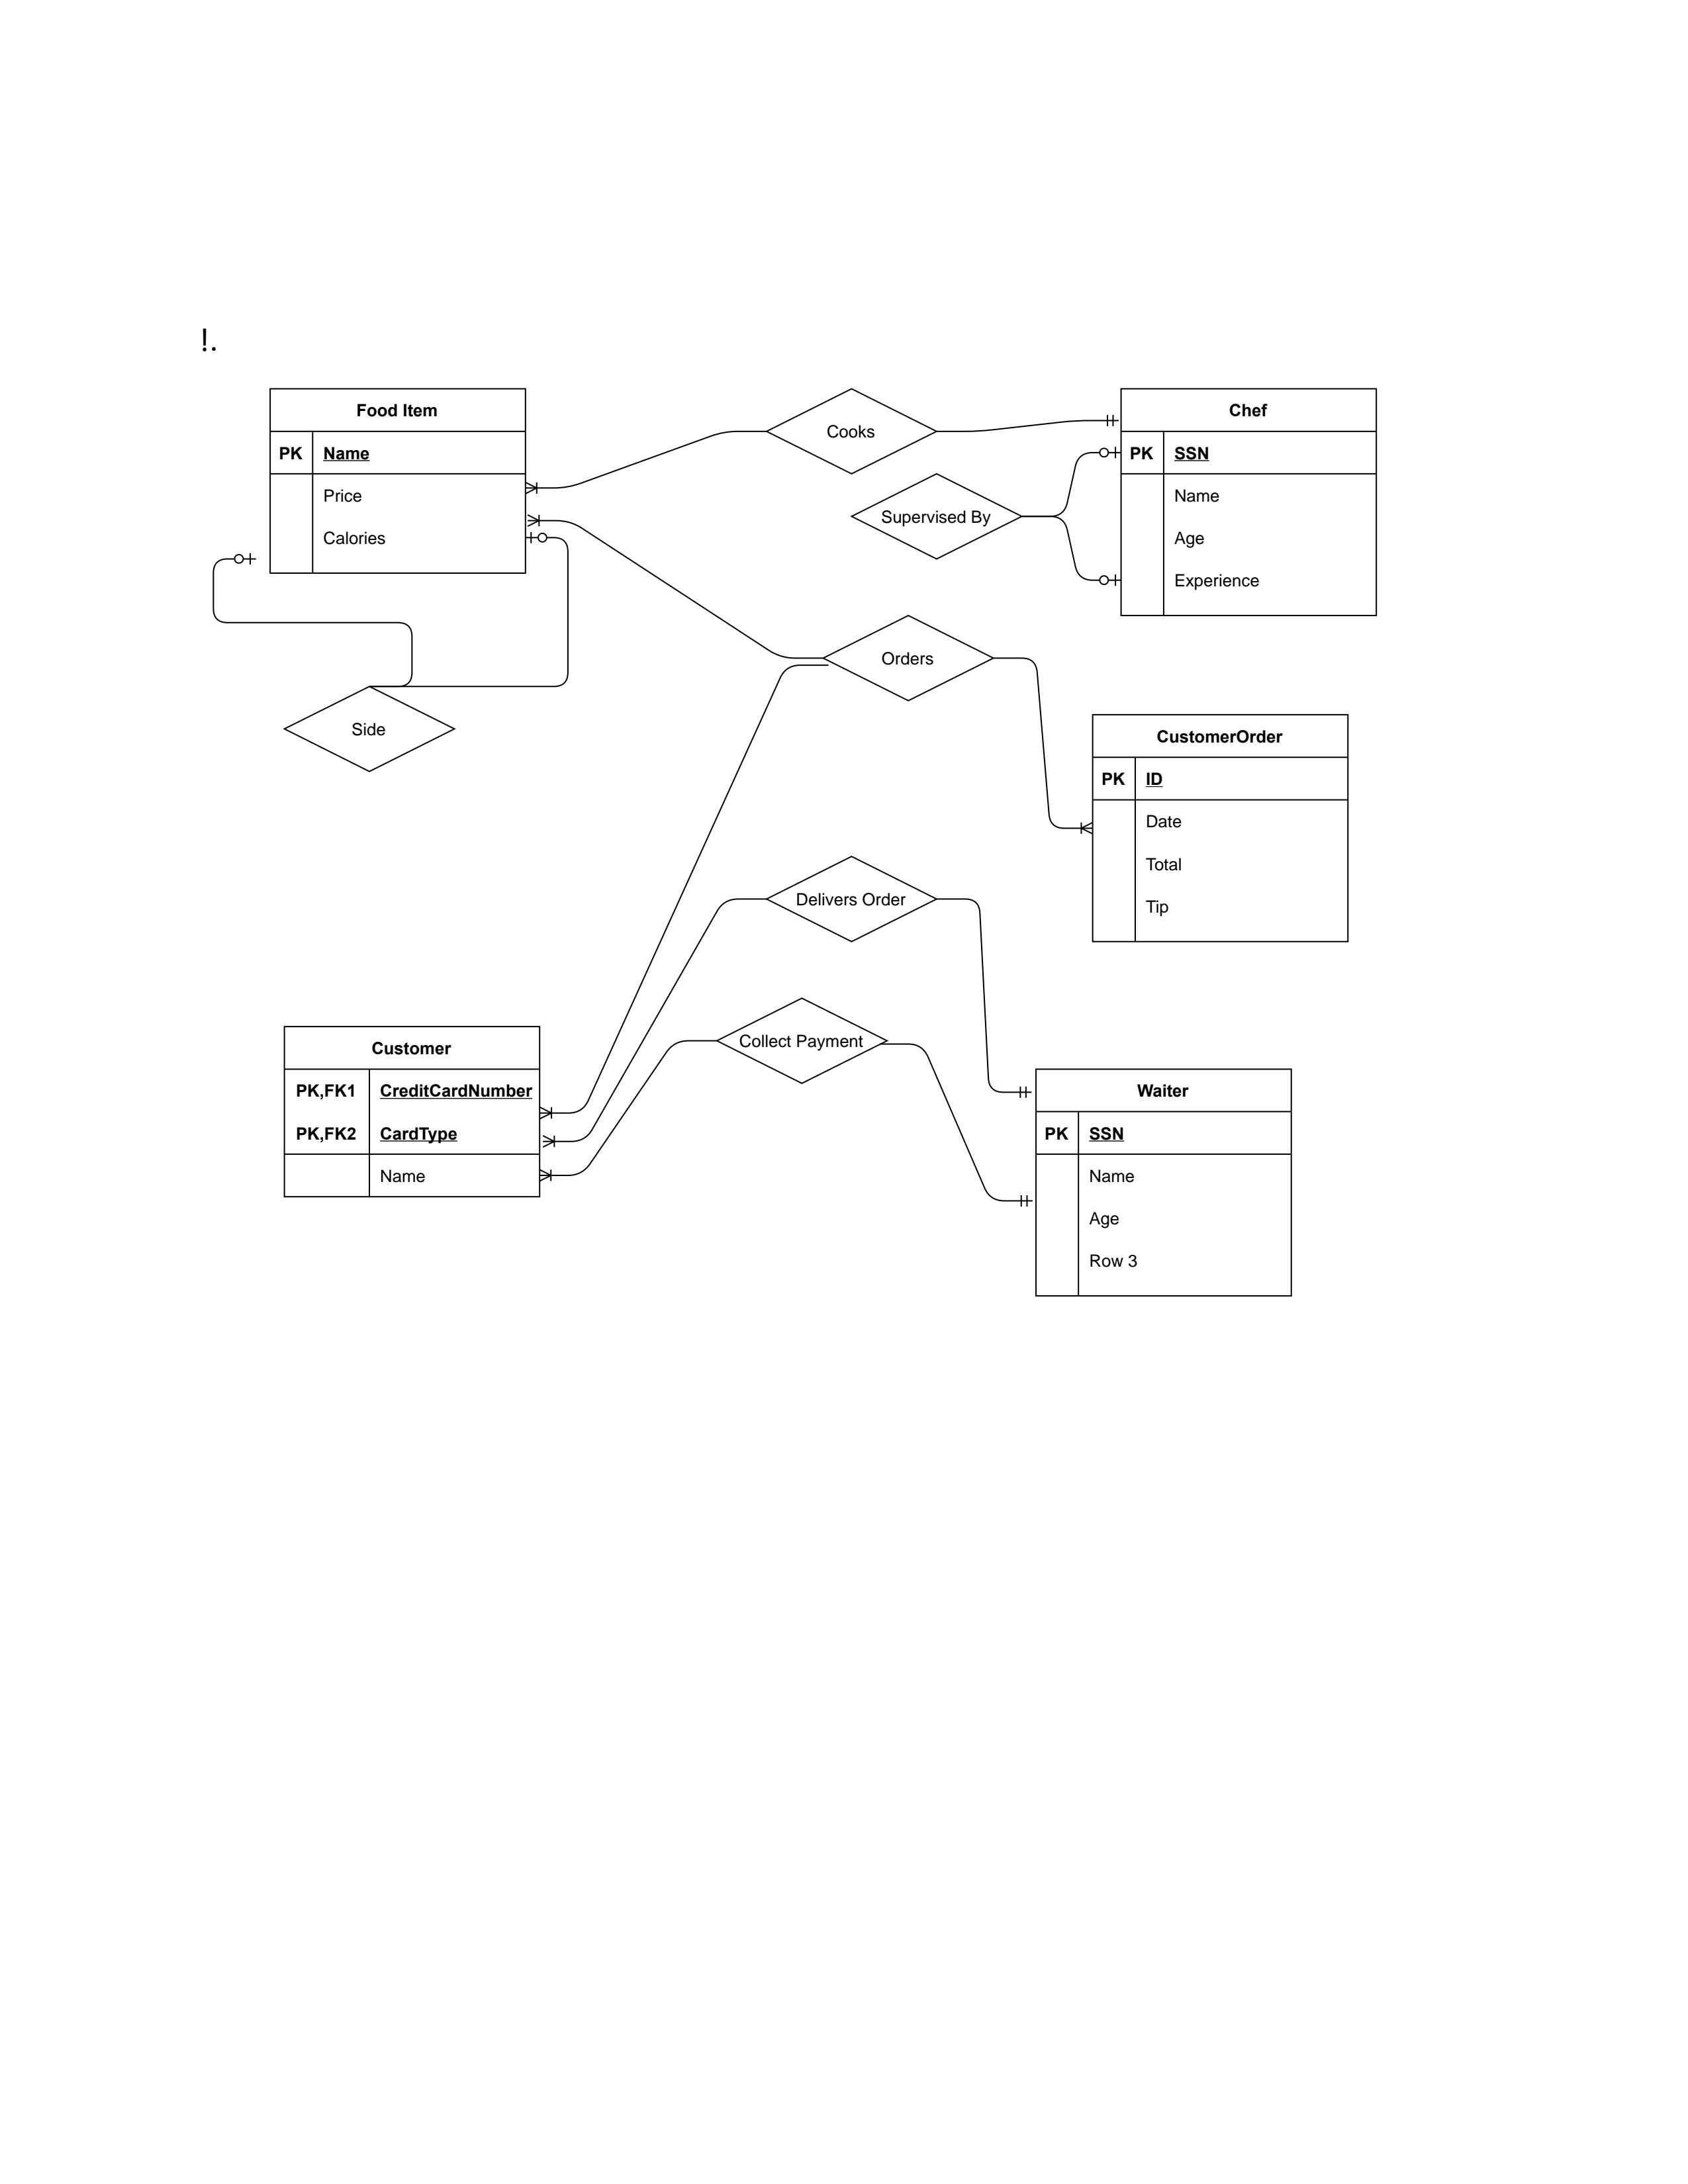Entity: (1032, 1064, 1294, 1299), (1117, 386, 1379, 620), (1089, 711, 1353, 943), (266, 385, 530, 578), (282, 1025, 543, 1198)
Relationship: (284, 684, 456, 776), (821, 615, 998, 702), (716, 998, 888, 1087), (766, 856, 934, 943), (762, 388, 938, 472), (856, 473, 1025, 558)
